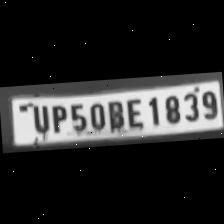0: (84, 99, 106, 131)
1: (144, 93, 162, 126)
3: (180, 89, 200, 122)
5: (66, 100, 86, 133)
8: (160, 92, 182, 124)
9: (198, 88, 219, 120)
B: (104, 97, 124, 130)
E: (122, 96, 144, 130)
P: (47, 102, 68, 134)
U: (28, 102, 50, 134)
